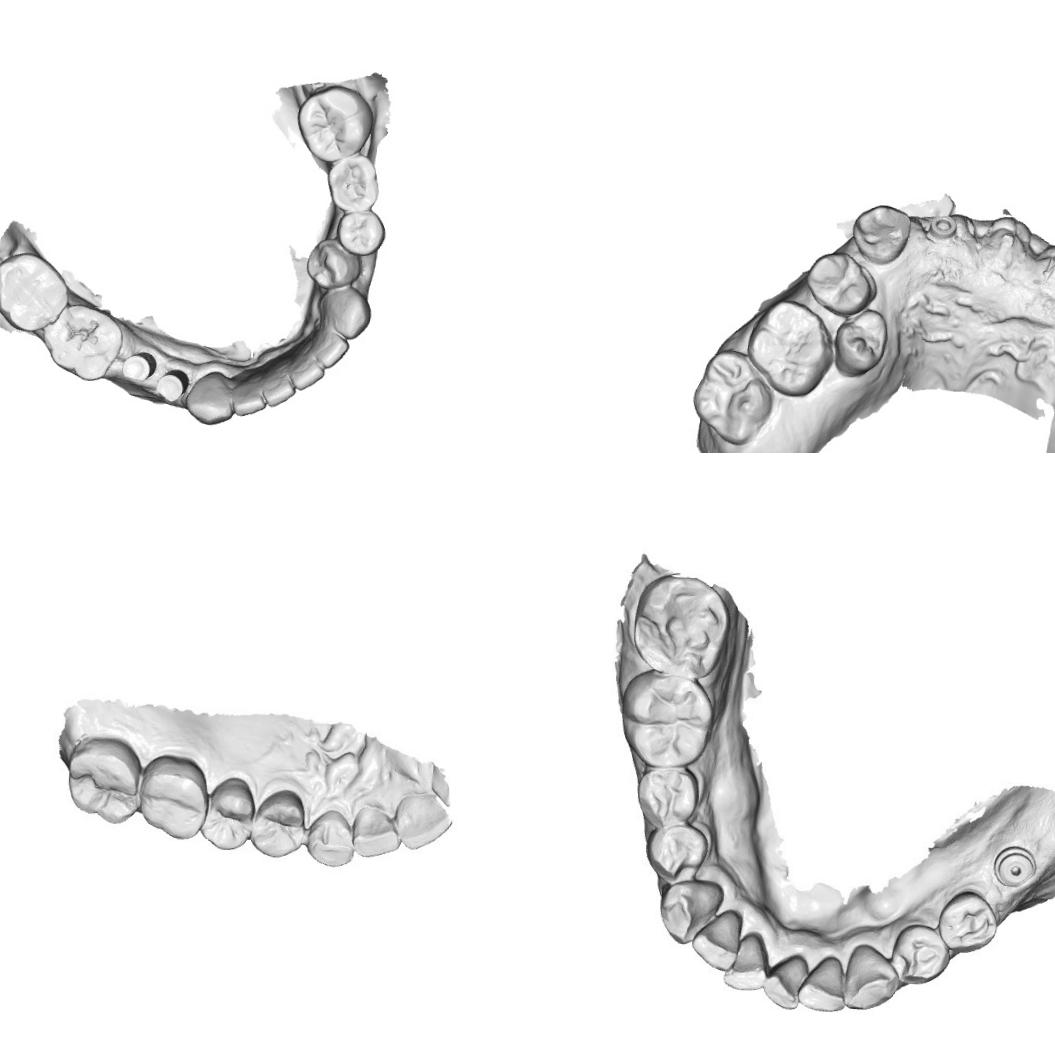abutment: (119, 346, 156, 385), (154, 364, 190, 404)
canine: (848, 201, 912, 267), (658, 878, 718, 944), (842, 940, 900, 1008), (304, 807, 359, 870), (317, 282, 373, 341), (182, 368, 236, 427)
implant: (986, 831, 1046, 902), (928, 209, 958, 242)
incisor: (395, 793, 455, 854), (691, 907, 746, 970), (800, 952, 852, 1014), (724, 928, 774, 992), (352, 800, 402, 860), (764, 950, 811, 1010), (228, 372, 268, 418), (284, 350, 326, 392), (258, 368, 298, 408), (310, 331, 351, 370)
molar: (630, 569, 728, 680), (742, 296, 837, 401), (688, 345, 778, 448), (622, 669, 712, 766), (64, 734, 145, 826), (293, 82, 376, 164), (42, 300, 124, 383), (136, 752, 210, 842), (0, 249, 71, 333), (324, 150, 381, 214)
premolar: (803, 248, 878, 320), (935, 886, 1006, 958), (201, 769, 254, 855), (830, 306, 890, 380), (248, 788, 308, 861), (646, 820, 710, 884), (636, 766, 698, 832), (889, 918, 948, 985), (303, 235, 364, 290), (334, 206, 387, 258)
